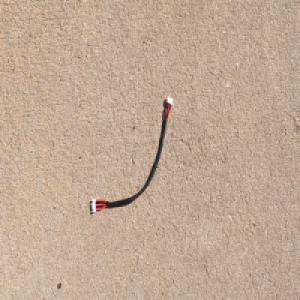Wire: (90, 94, 174, 215)
